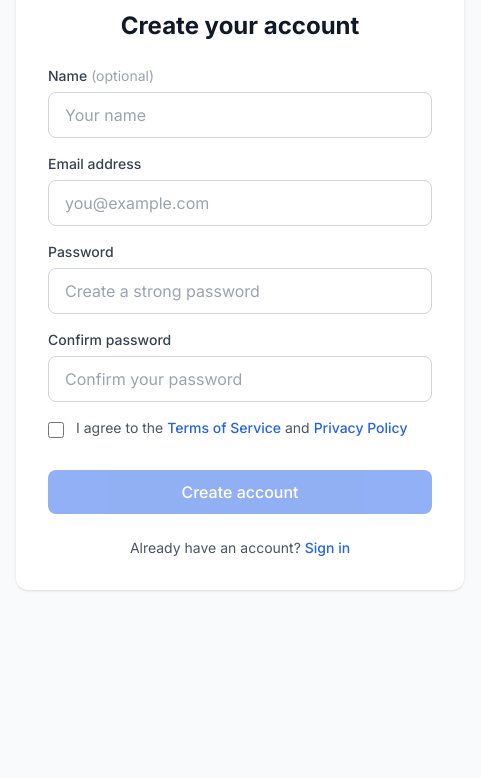
Test: SignupForm a11y › confirm password input has aria-invalid when passwords mismatch
Type "SecurePass123!" into the password field labelled "Password" at coordinates (240, 291), box [48,268,432,314]
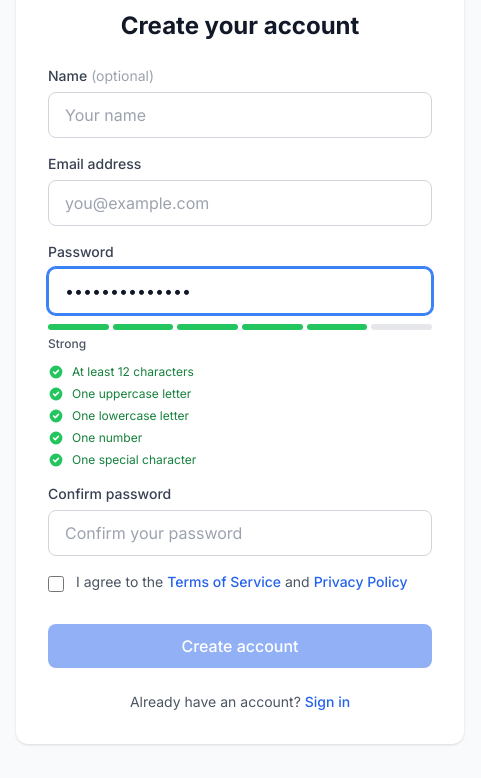
Type "DifferentPass456!" into the password field with id "confirmPassword" at coordinates (240, 533), box [48,510,432,556]
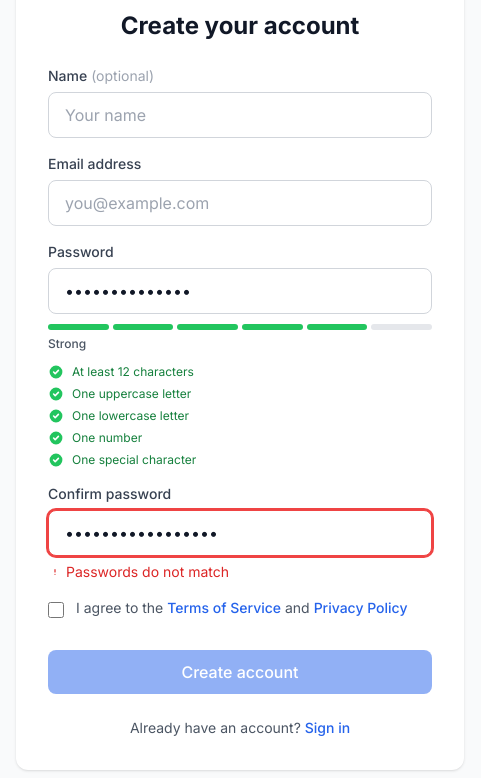
Result: the message "Passwords do not match" is shown at [48,563,229,580]
Result: the message with id "confirmPassword-error" reads "Passwords do not match" at [66,563,229,580]
